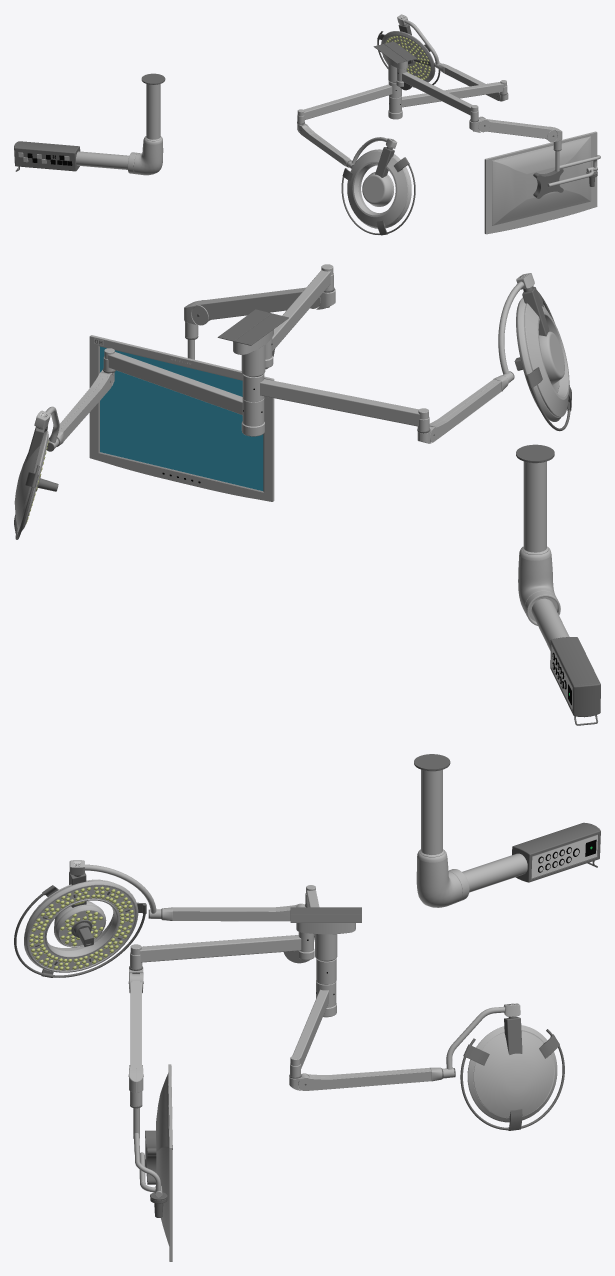
The model's file is Powerled.fbx.
The picture shows the model from 3 angles, top to bottom: view 1: azimuth 30°, elevation 25°; view 2: azimuth 150°, elevation 25°; view 3: azimuth 270°, elevation 25°; orthographic projection. The views are drawn at different scales.
Visible parts, largest first — view 1: Single flat screen 2 (1), Modutec PLG Maquet, Powerled 700 (1), Powerled 500 (1), Single flat screen 2 (2), Powerled 700 (4), Powerled 500 (4), Single flat screen 2 (3), Satelite System, Powerled 700 (3), Powerled 500 (3), Powerled 500 (2) (+1 smaller); view 2: Single flat screen 2 (1), Modutec PLG Maquet, Powerled 700 (1), Powerled 700 (4), Powerled 500 (4), Single flat screen 2 (2), Satelite System, Powerled 500 (1), Single flat screen 2 (3), Powerled 700 (3), Powerled 500 (3), Powerled 700 (2) (+1 smaller); view 3: Modutec PLG Maquet, Powerled 700 (1), Powerled 500 (1), Single flat screen 2 (1), Single flat screen 2 (3), Satelite System, Powerled 500 (3), Powerled 700 (3), Single flat screen 2 (2), Powerled 500 (4), Powerled 700 (2), Powerled 500 (2) (+1 smaller).
Boxes of the visible parts, box(x1,y1,x2,y2) form: Single flat screen 2 (1): box(484, 131, 600, 234); Modutec PLG Maquet: box(14, 73, 165, 175); Powerled 700 (1): box(341, 147, 415, 235); Powerled 500 (1): box(377, 24, 440, 87); Single flat screen 2 (2): box(469, 116, 562, 151); Powerled 700 (4): box(297, 81, 401, 124); Powerled 500 (4): box(389, 80, 507, 113); Single flat screen 2 (3): box(396, 68, 478, 122); Satelite System: box(373, 41, 417, 119); Powerled 700 (3): box(297, 123, 351, 167); Powerled 500 (3): box(439, 63, 508, 101); Powerled 500 (2): box(397, 14, 441, 68); Single flat screen 2 (1): box(89, 335, 274, 501); Modutec PLG Maquet: box(516, 444, 600, 725); Powerled 700 (1): box(514, 286, 571, 431); Powerled 700 (4): box(242, 374, 430, 433); Powerled 500 (4): box(103, 348, 264, 426); Single flat screen 2 (2): box(184, 287, 335, 339); Satelite System: box(217, 309, 288, 436); Powerled 500 (1): box(14, 425, 58, 539); Single flat screen 2 (3): box(265, 264, 334, 369); Powerled 700 (3): box(417, 375, 508, 443); Powerled 500 (3): box(48, 370, 114, 446); Powerled 700 (2): box(498, 273, 534, 383); Modutec PLG Maquet: box(414, 754, 600, 907); Powerled 700 (1): box(14, 872, 146, 977); Powerled 500 (1): box(460, 1017, 564, 1130); Single flat screen 2 (1): box(133, 1064, 172, 1261); Single flat screen 2 (3): box(129, 932, 314, 970); Satelite System: box(290, 907, 361, 1017); Powerled 500 (3): box(289, 1067, 442, 1090); Powerled 700 (3): box(162, 903, 305, 921); Single flat screen 2 (2): box(128, 967, 143, 1108); Powerled 500 (4): box(289, 980, 336, 1078); Powerled 700 (2): box(69, 860, 162, 919); Powerled 500 (2): box(441, 1003, 520, 1078).
Bounding box in the file's own units: 465 × 154 × 346.
